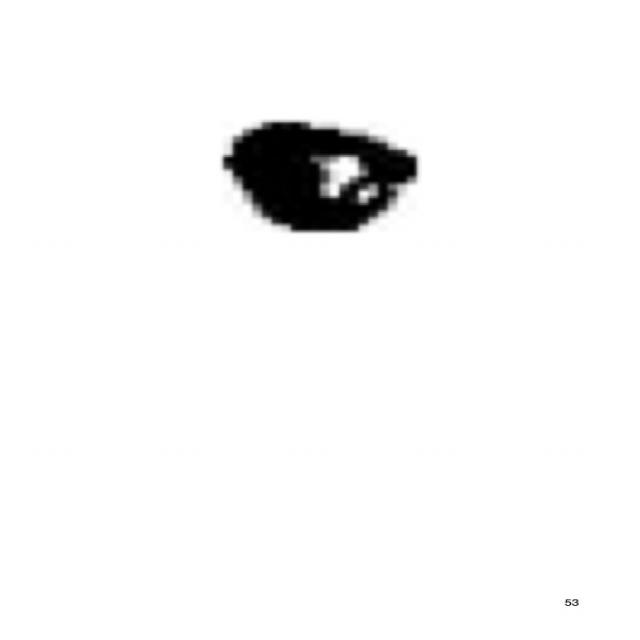0 -zero-: (210, 109, 430, 241)
